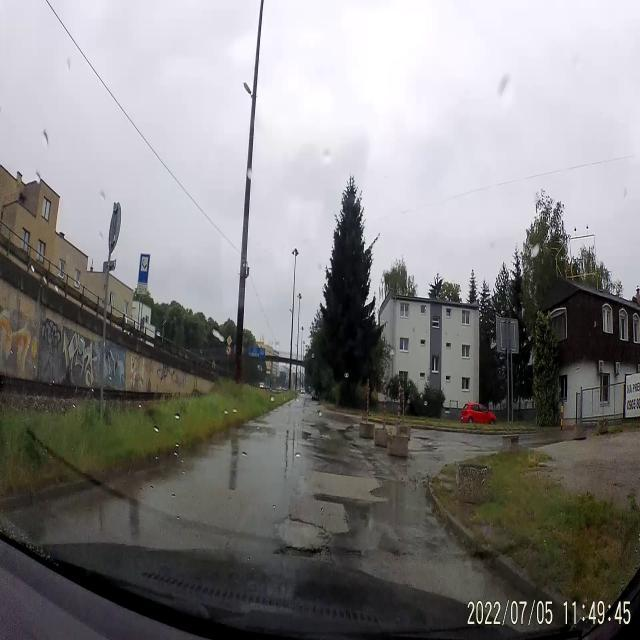Pothole: (272, 507, 336, 570), (413, 434, 432, 444)
